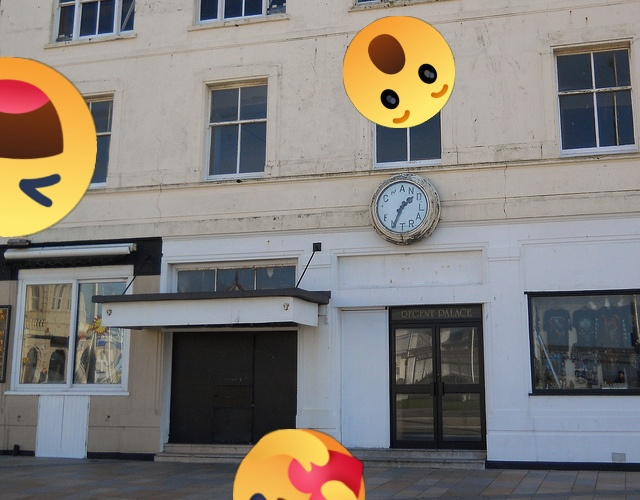care: (233, 429, 365, 500)
haha: (0, 57, 97, 237)
wow: (343, 16, 455, 128)
